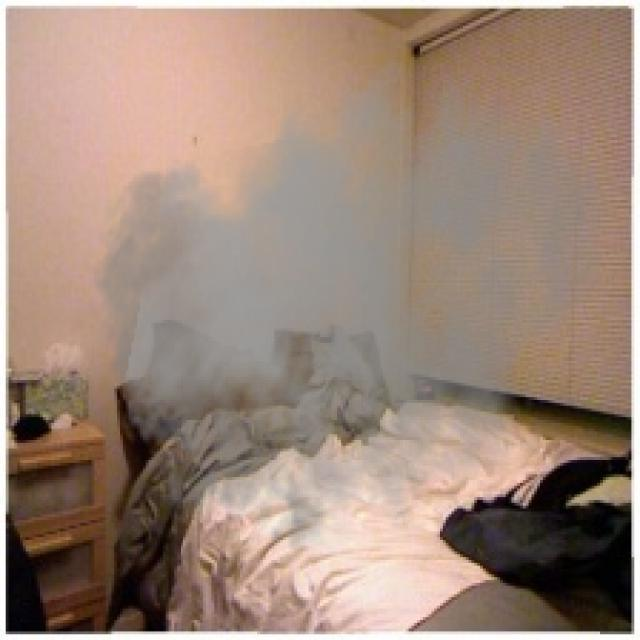Smoke: (86, 29, 608, 572)
